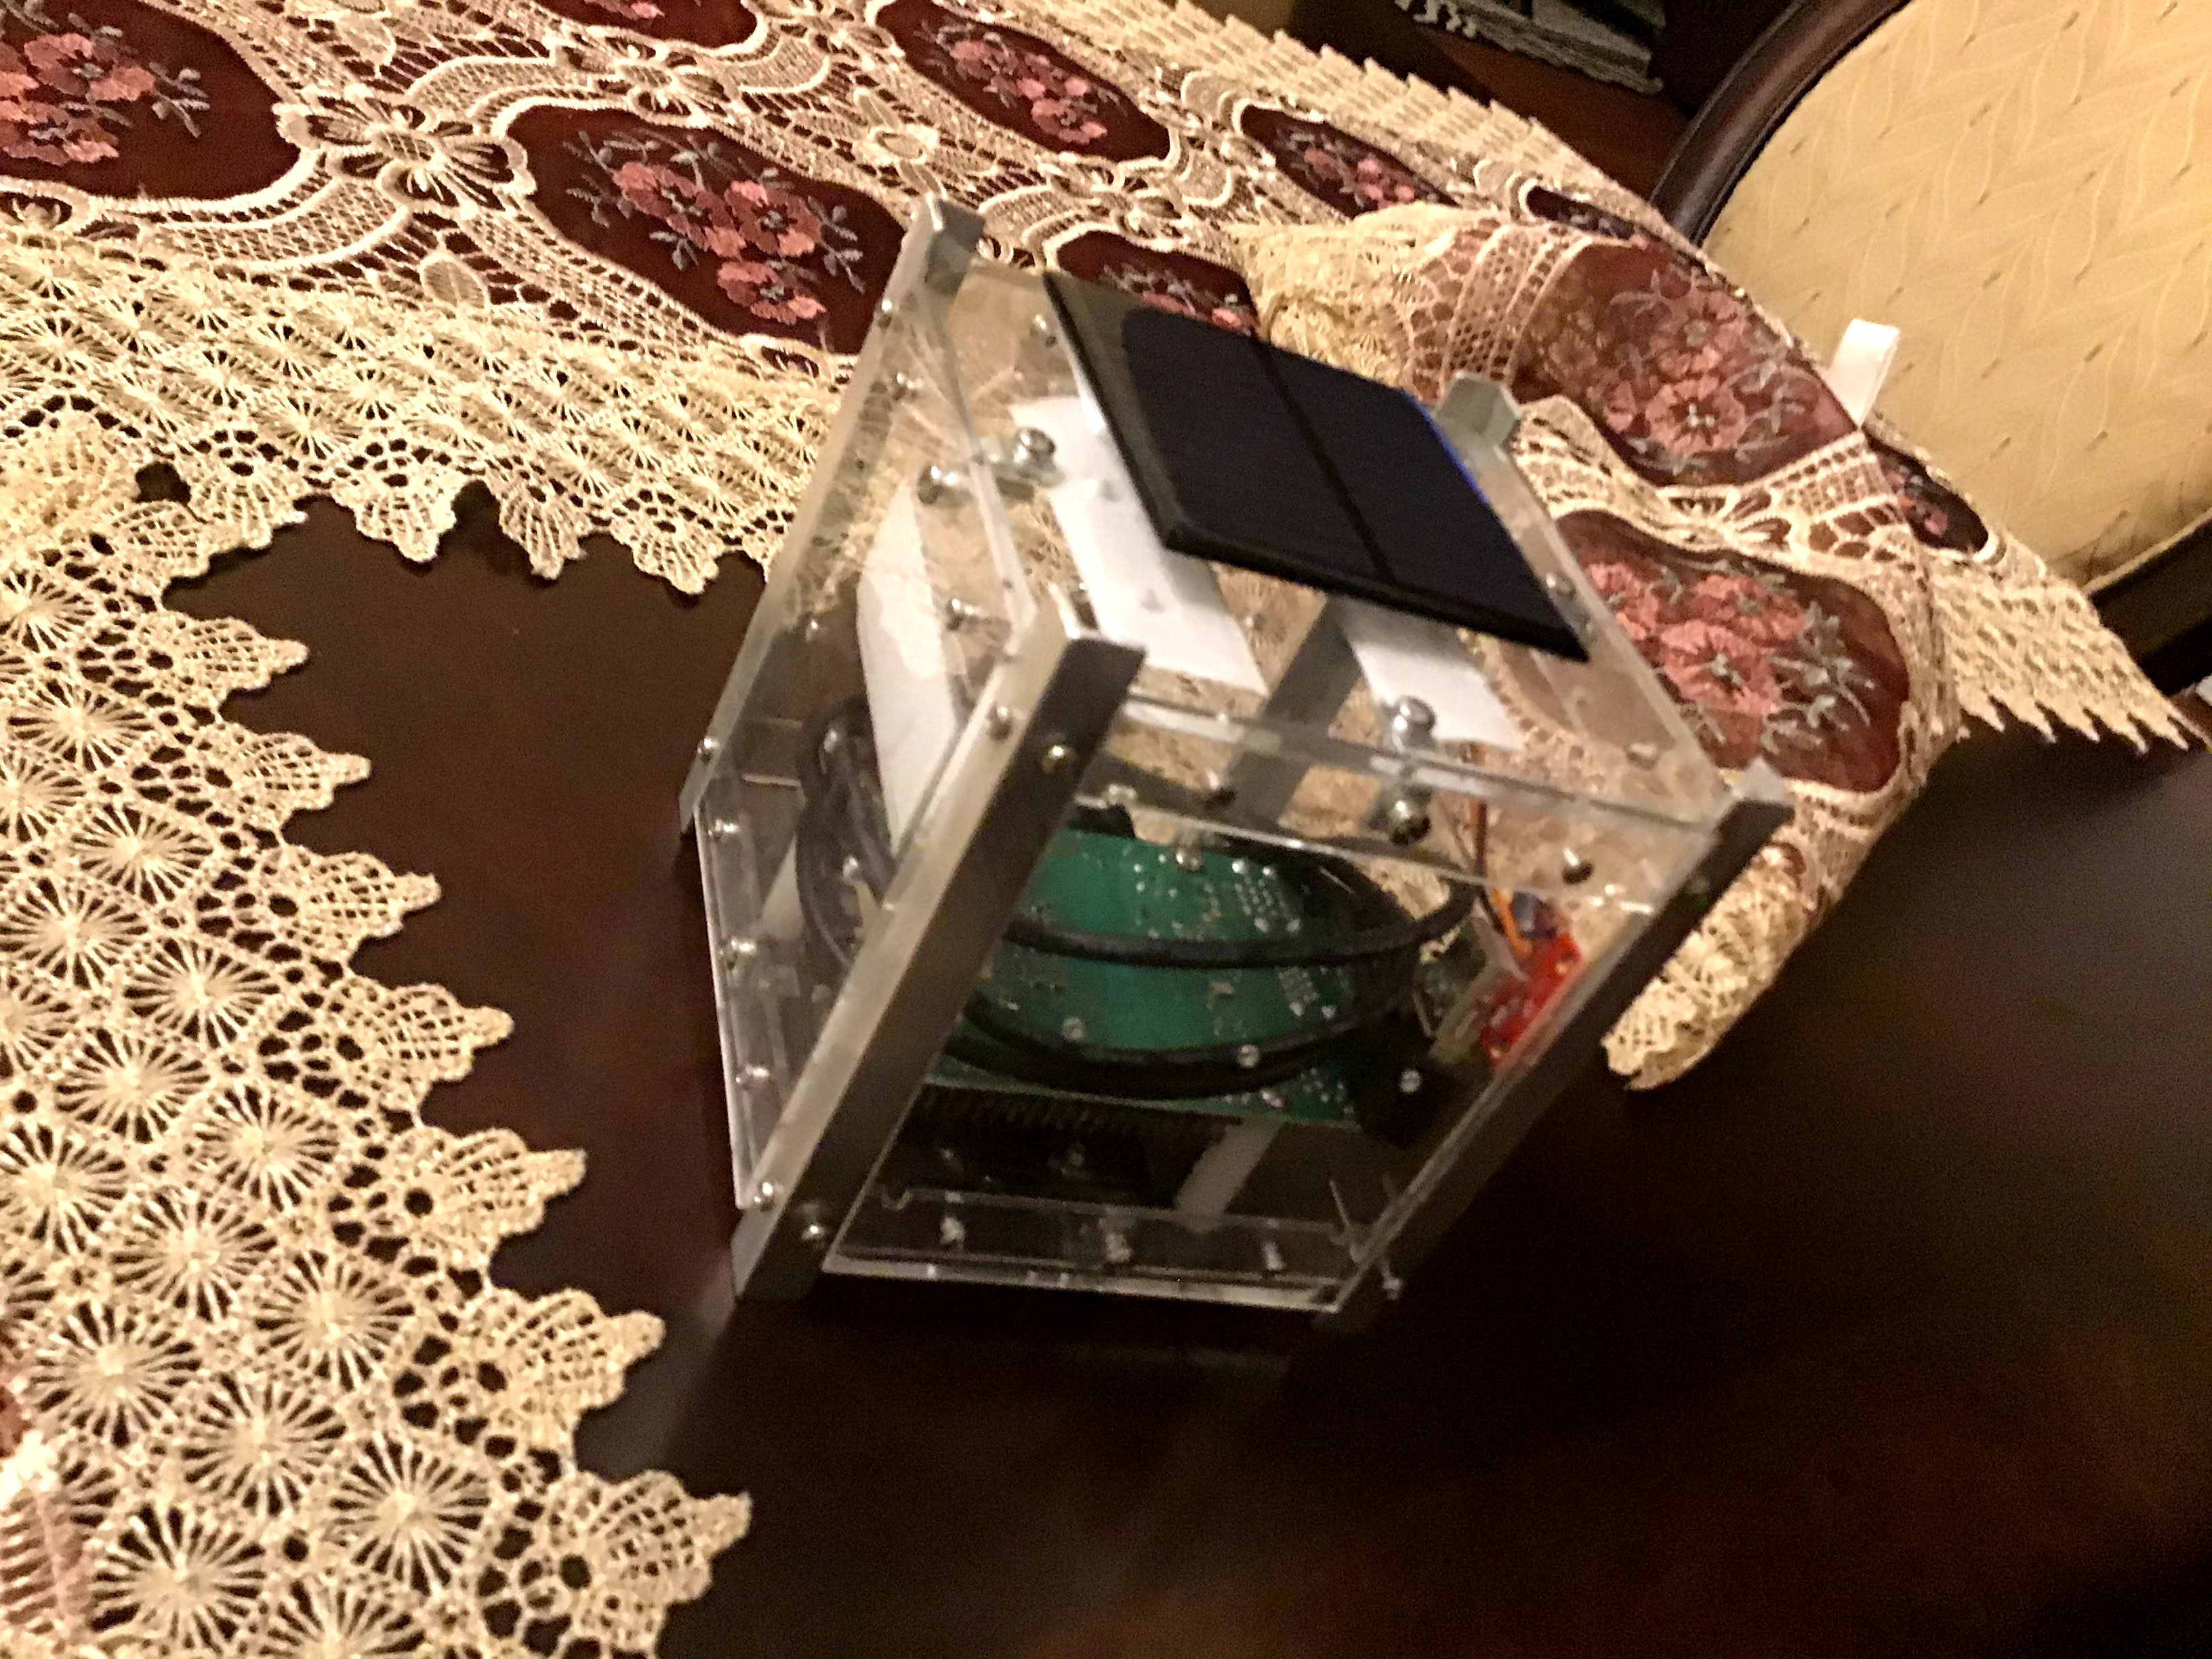Space-debris-cubesat: (683, 185, 1810, 1347)
